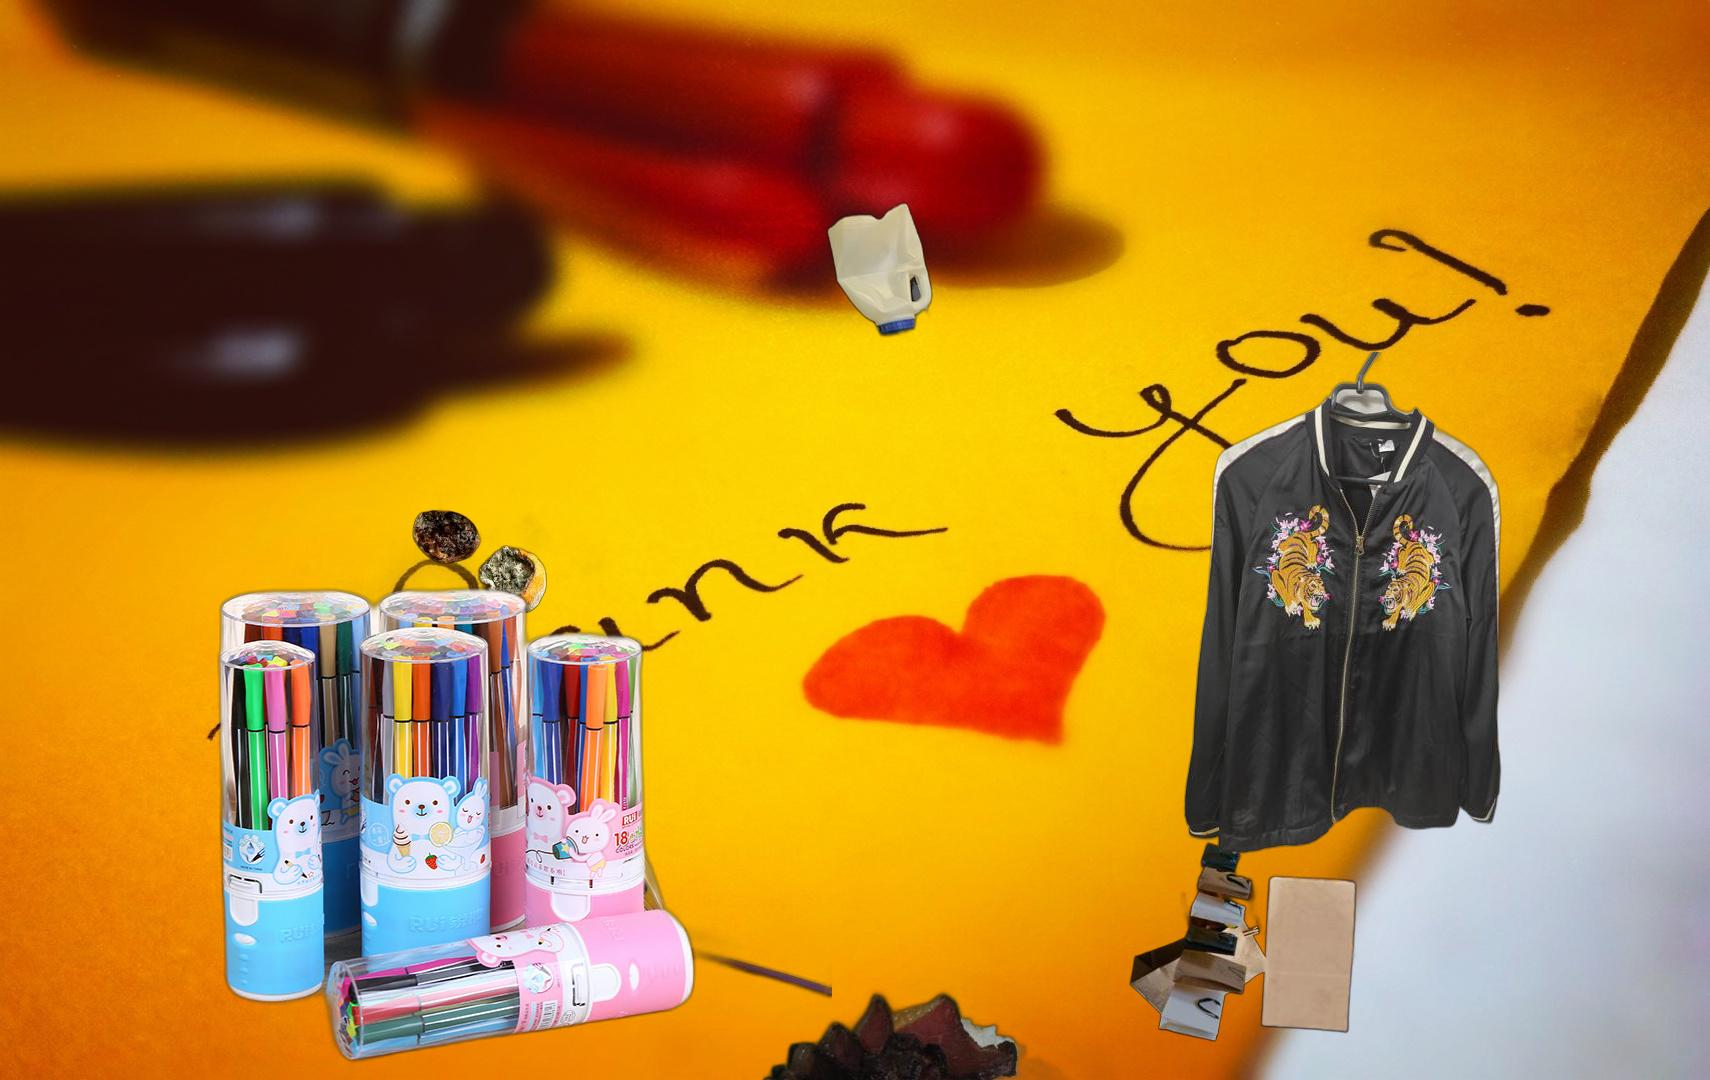biological: (723, 968, 1161, 1080), (356, 465, 609, 617), (427, 858, 652, 957)
clothes: (1181, 352, 1504, 858)
paper-bag: (1128, 840, 1359, 1044)
penholder: (213, 582, 832, 1067)
plastic-bottles: (822, 197, 937, 342)
